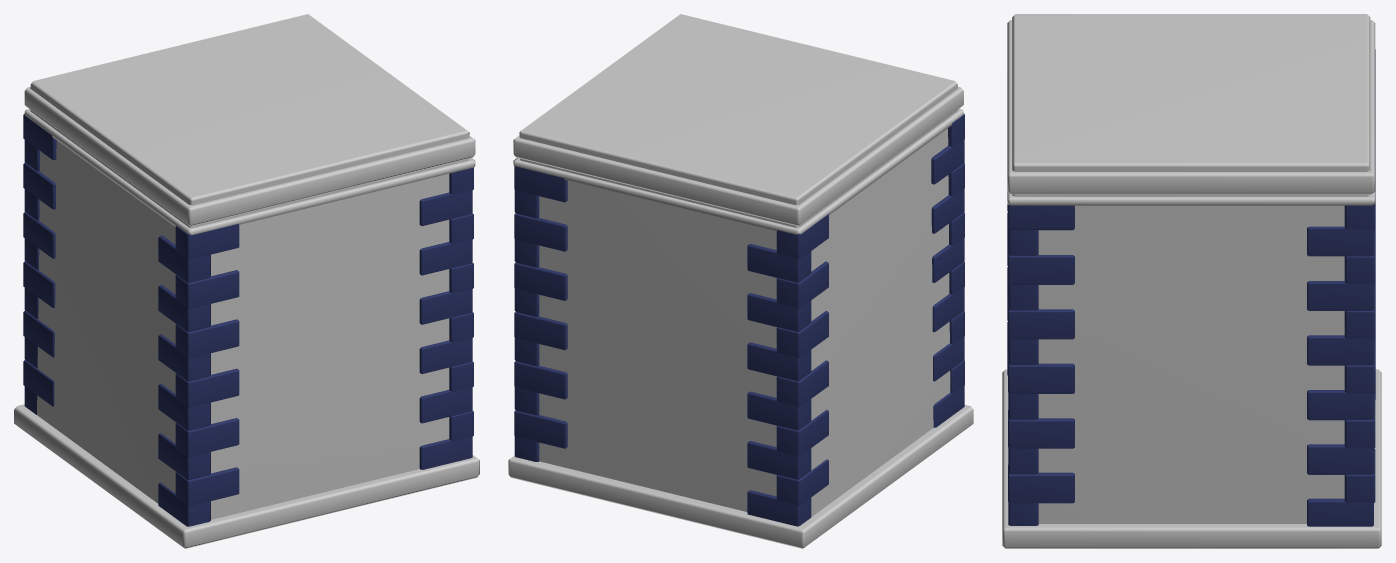
Rendered from flat.fbx.
3 views of the same model, side by side, from view 1: azimuth 30°, elevation 25°; view 2: azimuth 150°, elevation 25°; view 3: azimuth 270°, elevation 25° (orthographic). The views are drawn at different scales.
Visible parts, largest first — view 1: flat; view 2: flat; view 3: flat.
Boxes of the visible parts, bbox=[...] form: flat: bbox=[14, 14, 479, 548]; flat: bbox=[508, 14, 973, 548]; flat: bbox=[1002, 14, 1381, 548].
Size of the model in its own units: 416 by 461 by 414.
